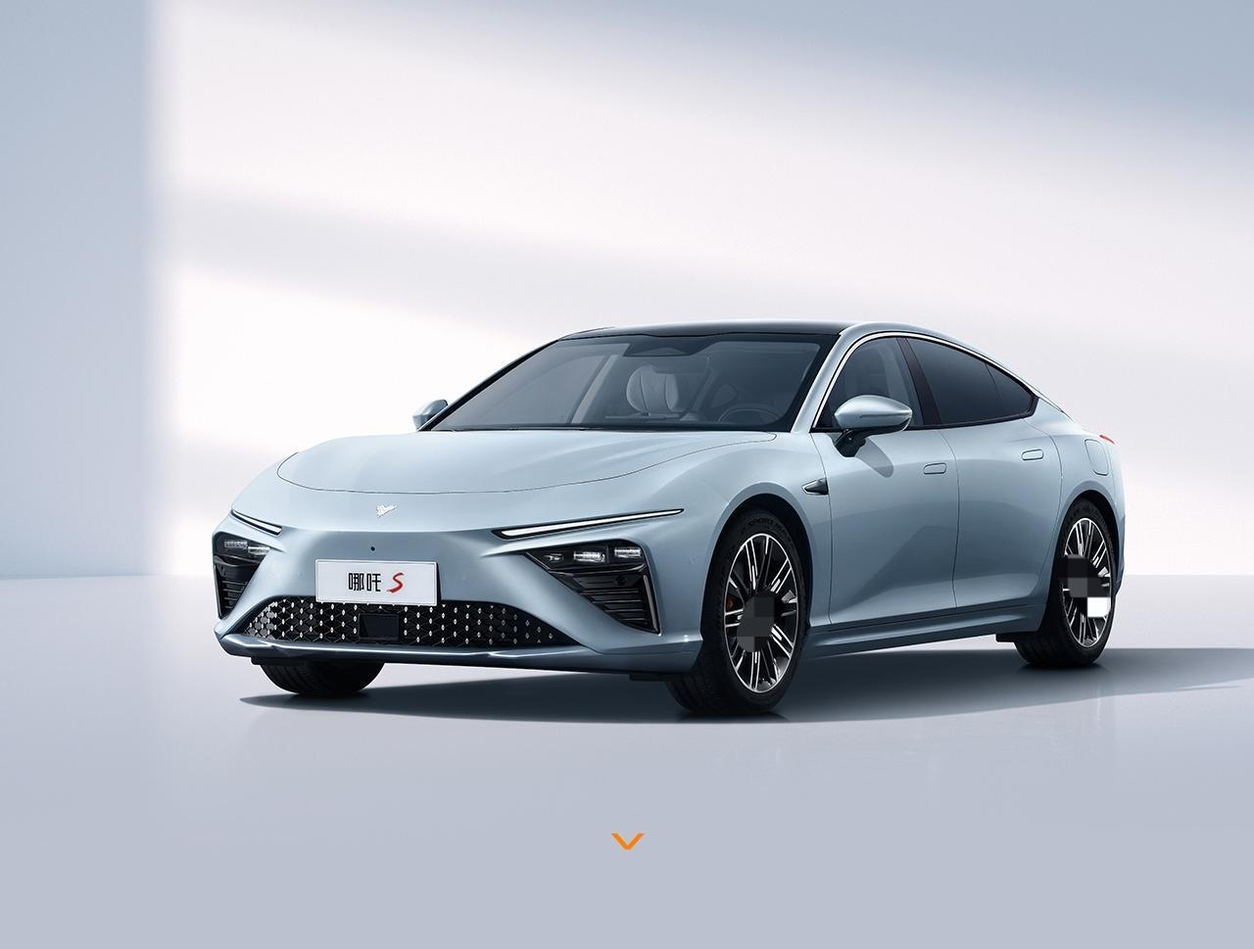NETA: (373, 501, 399, 519)
